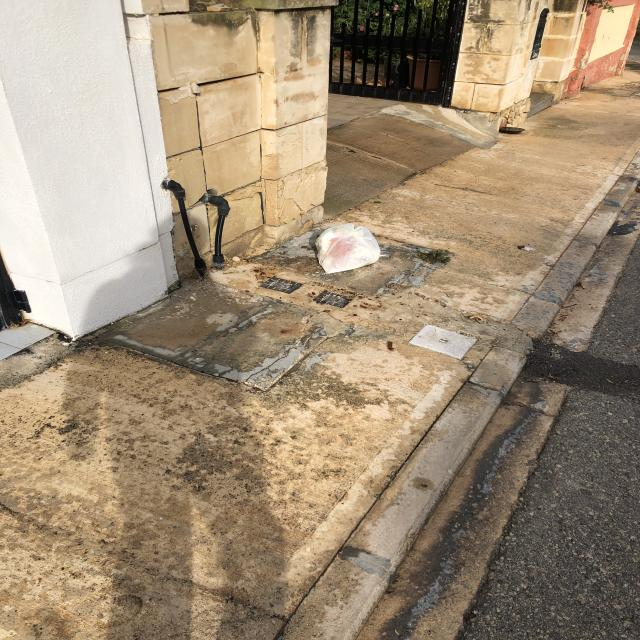Organic Waste -White Bag-: (312, 219, 385, 278)
